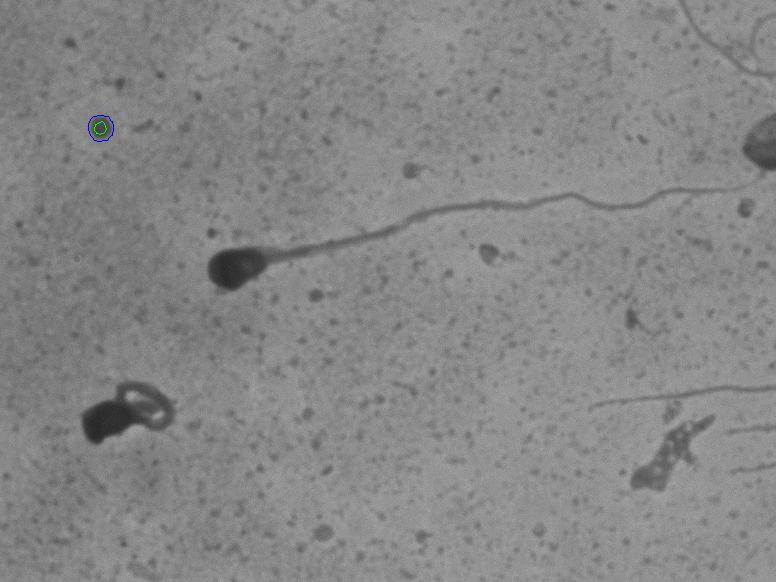Abnormal: (191, 136, 747, 297)
